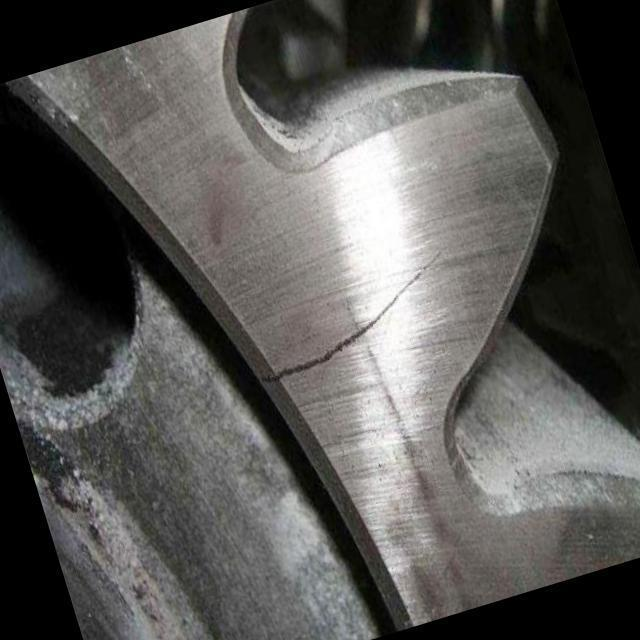defect: (256, 242, 447, 389)
